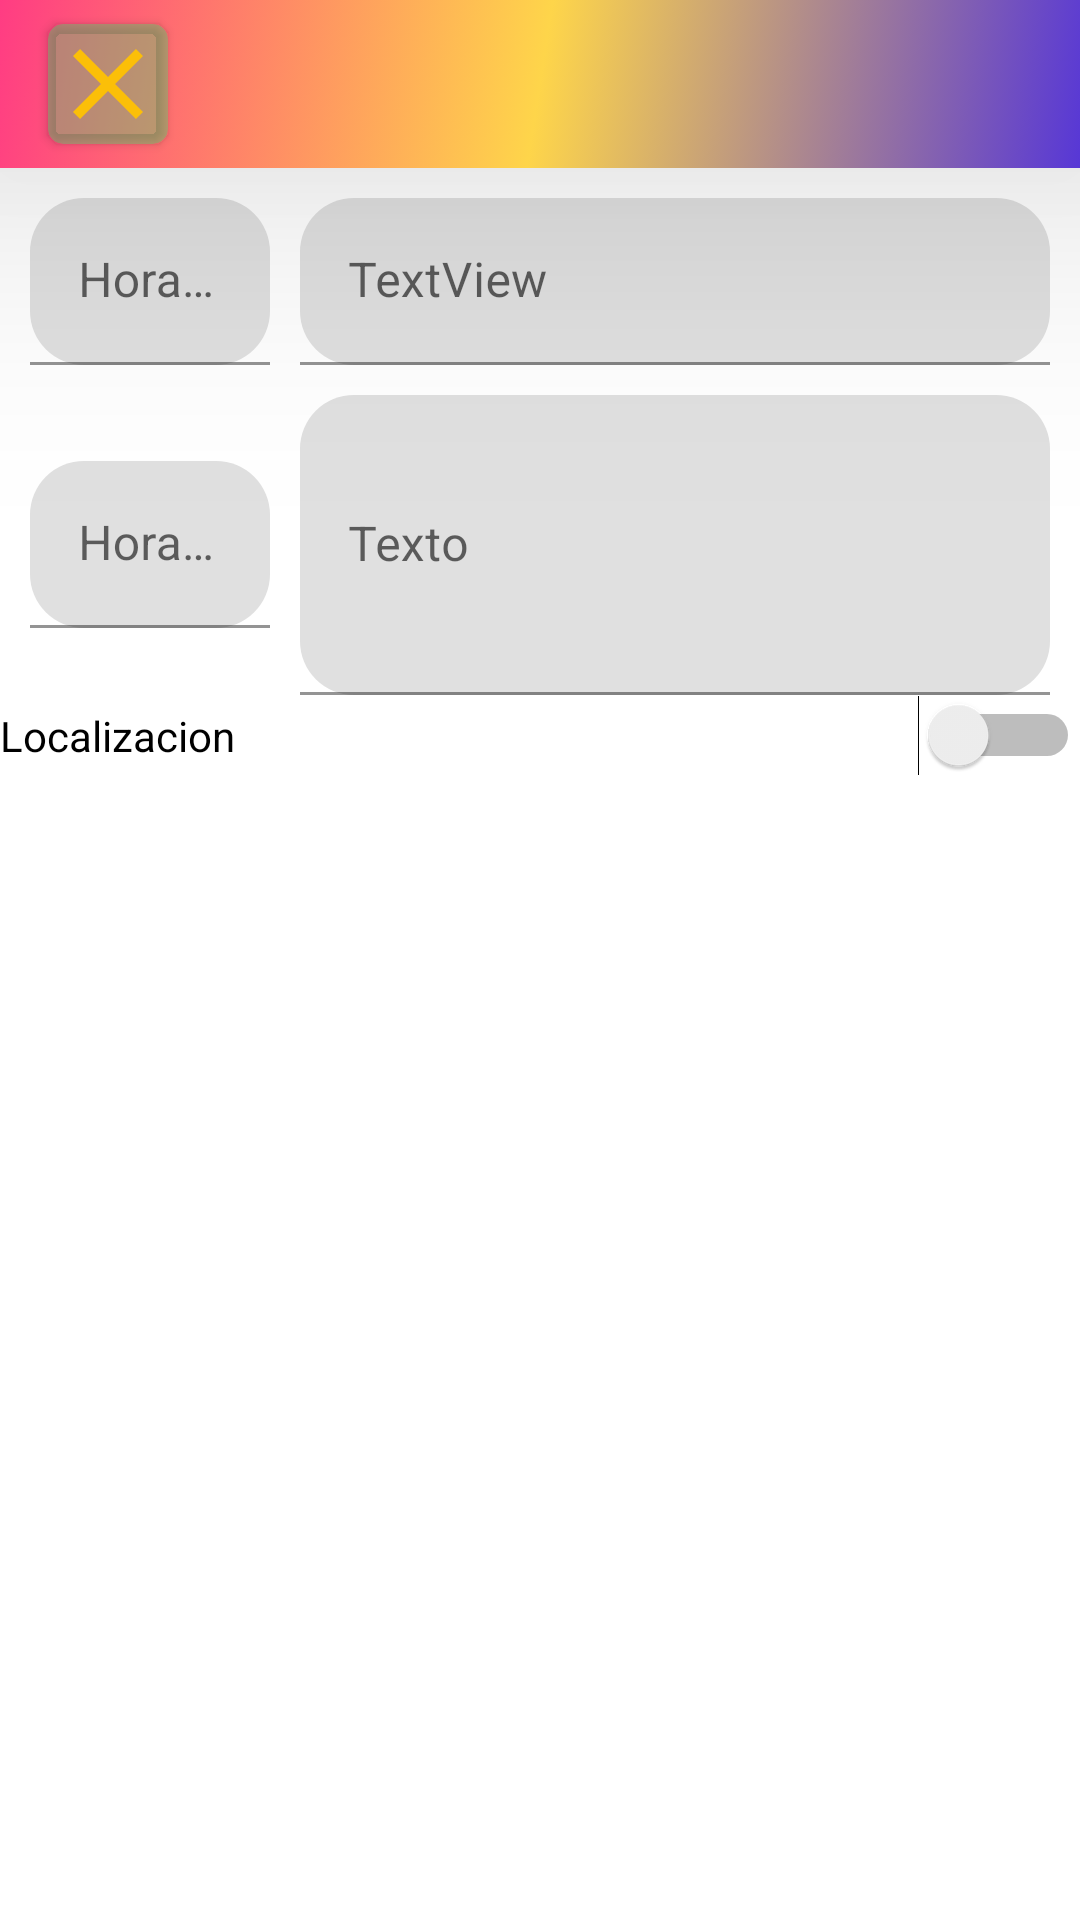

Named icons in this screenshot (1080×1920) and their centers, [x,y]:
cancel: [108,84]
